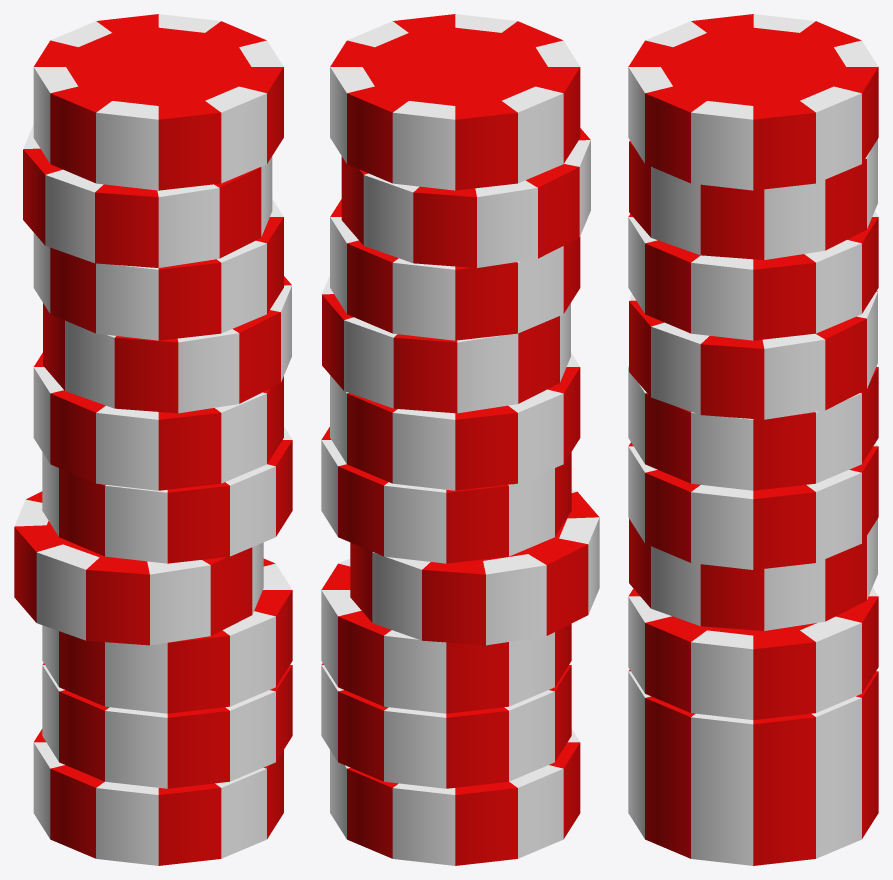
The model's file is Poker Chip Red Large Stack.FBX.
The picture shows the model from 3 angles, left to right: view 1: azimuth 30°, elevation 25°; view 2: azimuth 150°, elevation 25°; view 3: azimuth 270°, elevation 25°; orthographic projection.
Parts seen in each view (by area): view 1: Poker Chip009, Poker Chip003, Poker Chip008, Poker Chip Red Large Stack, Poker Chip005, Poker Chip001, Poker Chip004, Poker Chip007, Poker Chip002, Poker Chip006; view 2: Poker Chip009, Poker Chip003, Poker Chip008, Poker Chip005, Poker Chip Red Large Stack, Poker Chip001, Poker Chip004, Poker Chip007, Poker Chip002, Poker Chip006; view 3: Poker Chip009, Poker Chip002, Poker Chip007, Poker Chip004, Poker Chip006, Poker Chip001, Poker Chip005, Poker Chip Red Large Stack, Poker Chip008, Poker Chip003.
Boxes of the visible parts, left/top/right/bottom form: Poker Chip009: left=33, top=14, right=283, bottom=190; Poker Chip003: left=14, top=491, right=263, bottom=645; Poker Chip008: left=23, top=124, right=272, bottom=267; Poker Chip Red Large Stack: left=33, top=729, right=283, bottom=865; Poker Chip005: left=33, top=352, right=283, bottom=490; Poker Chip001: left=42, top=663, right=292, bottom=788; Poker Chip004: left=42, top=427, right=292, bottom=563; Poker Chip007: left=33, top=199, right=283, bottom=340; Poker Chip002: left=42, top=558, right=292, bottom=713; Poker Chip006: left=43, top=276, right=291, bottom=413; Poker Chip009: left=330, top=14, right=580, bottom=190; Poker Chip003: left=350, top=489, right=599, bottom=645; Poker Chip008: left=341, top=128, right=590, bottom=267; Poker Chip005: left=330, top=352, right=580, bottom=490; Poker Chip Red Large Stack: left=330, top=729, right=580, bottom=865; Poker Chip001: left=321, top=663, right=571, bottom=788; Poker Chip004: left=321, top=427, right=571, bottom=563; Poker Chip007: left=330, top=199, right=580, bottom=340; Poker Chip002: left=321, top=558, right=571, bottom=713; Poker Chip006: left=322, top=275, right=570, bottom=413; Poker Chip009: left=628, top=14, right=878, bottom=190; Poker Chip002: left=628, top=587, right=878, bottom=720; Poker Chip007: left=628, top=211, right=878, bottom=340; Poker Chip004: left=628, top=442, right=878, bottom=569; Poker Chip006: left=629, top=291, right=877, bottom=419; Poker Chip001: left=628, top=669, right=878, bottom=795; Poker Chip005: left=628, top=365, right=878, bottom=490; Poker Chip Red Large Stack: left=628, top=743, right=878, bottom=865; Poker Chip008: left=629, top=139, right=877, bottom=259; Poker Chip003: left=629, top=518, right=877, bottom=630.
Bounding box in the file's own units: 0.0181 × 0.0526 × 0.016.
